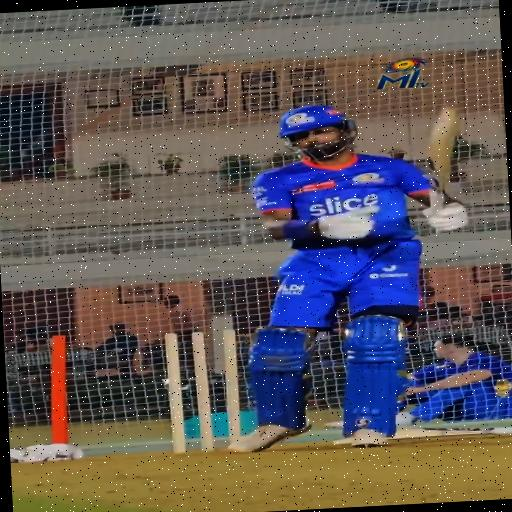Cricket bat: (427, 107, 458, 211)
